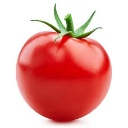tomato: (16, 30, 112, 121)
